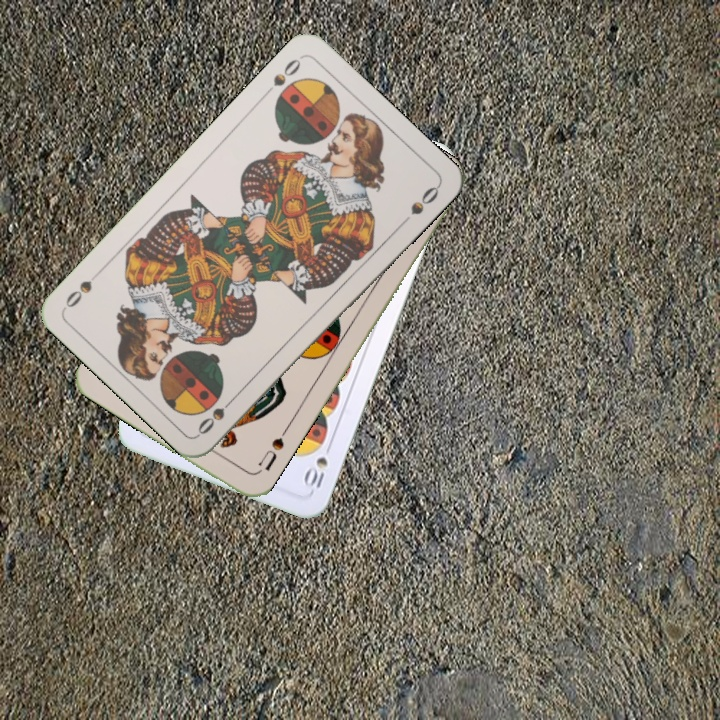S10: (300, 438, 335, 491)
SO: (193, 390, 240, 438), (259, 53, 305, 99)
SU: (254, 424, 291, 474)
